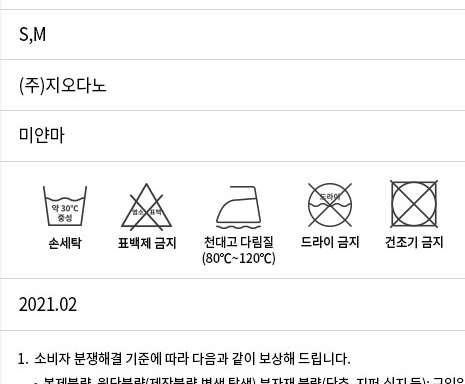KR_hand_wash_30_neutral: (39, 177, 91, 231)
KR_no_chlorine_bleach: (117, 177, 173, 234)
KR_no_dry_clean: (303, 178, 356, 231)
KR_no_tumble_dry: (385, 175, 441, 231)
